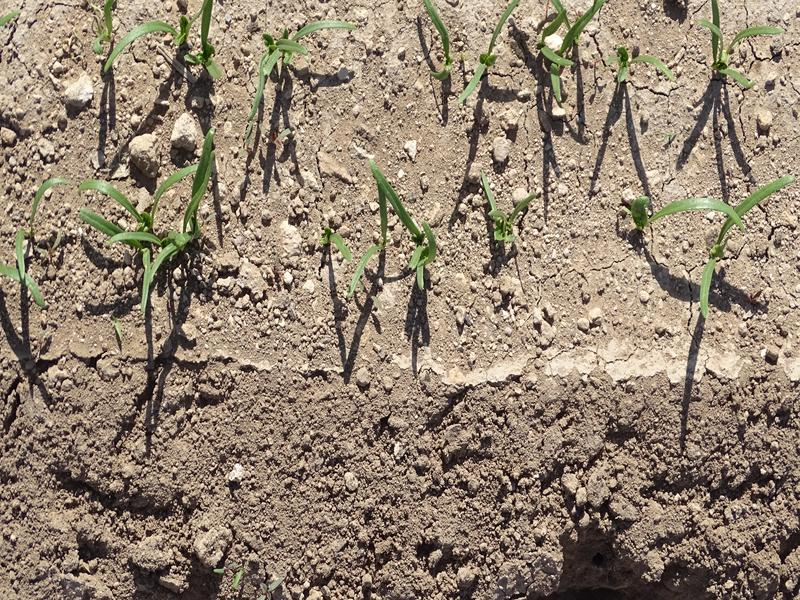Espinaca: (636, 173, 789, 315), (357, 161, 441, 285), (709, 16, 773, 94)
